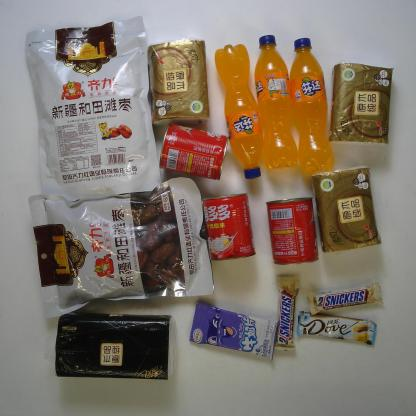Candy: (188, 300, 280, 363)
Canned Food: (159, 121, 231, 180), (202, 192, 256, 262), (269, 196, 320, 263)
Chocolate: (297, 310, 378, 347), (306, 280, 384, 316), (274, 274, 300, 352)
Dried Food: (28, 177, 215, 319), (26, 13, 161, 204)
Drink: (214, 43, 265, 179), (253, 33, 301, 170), (289, 37, 335, 177)
Tissue: (54, 311, 178, 381), (310, 163, 382, 254), (147, 35, 210, 127), (327, 62, 394, 146)
